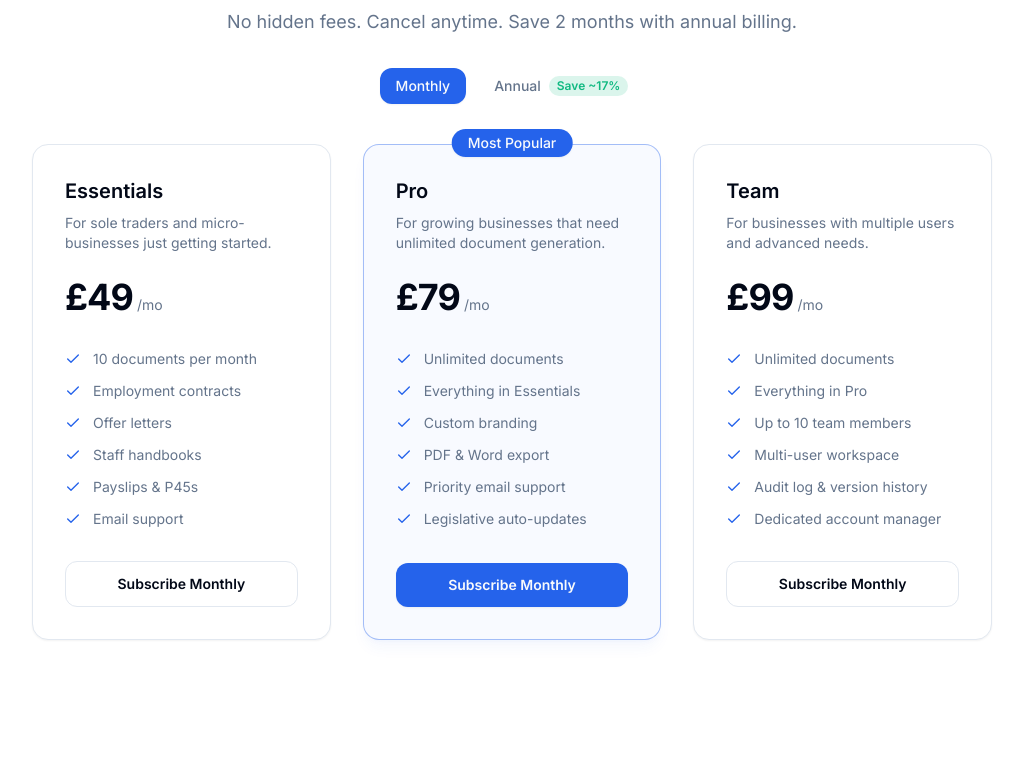
Scenario: Pricing → Checkout integration › Authenticated user › shows an error when the API returns an error response
(page scrolled)
Expected: the text "Invalid plan selected" is not shown
Click the button "Subscribe Monthly" below "Dedicated account manager".
click(843, 584)  # box [726,561,959,607]
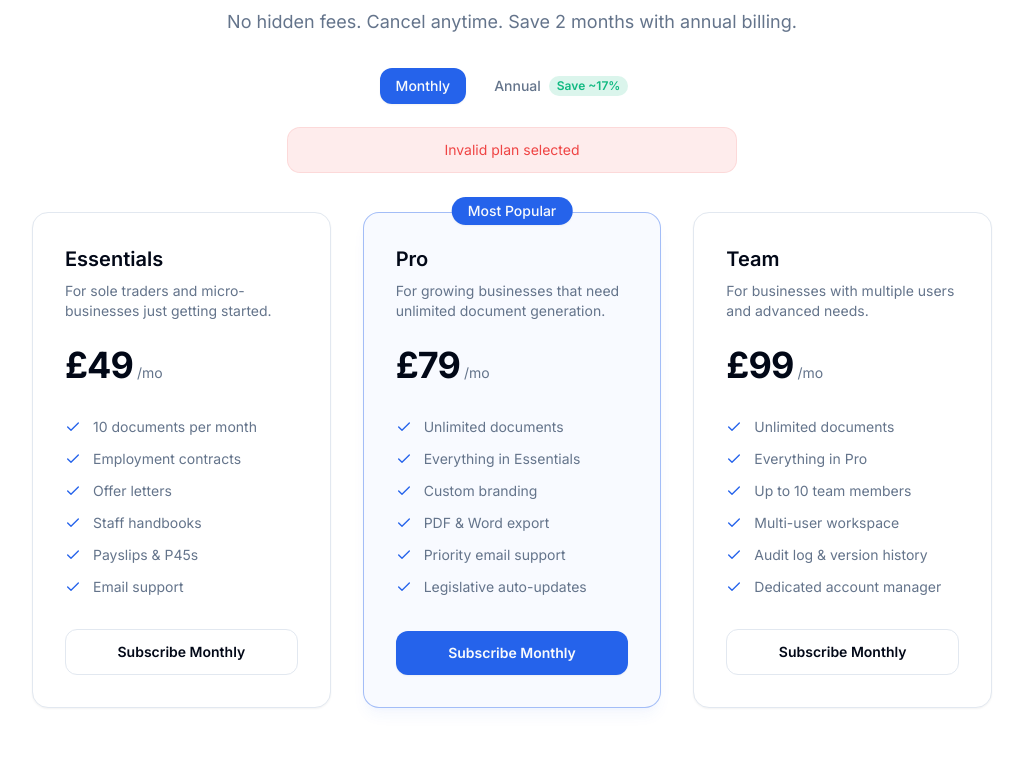
Now the text "Invalid plan selected" is shown, box [288,128,736,172]
